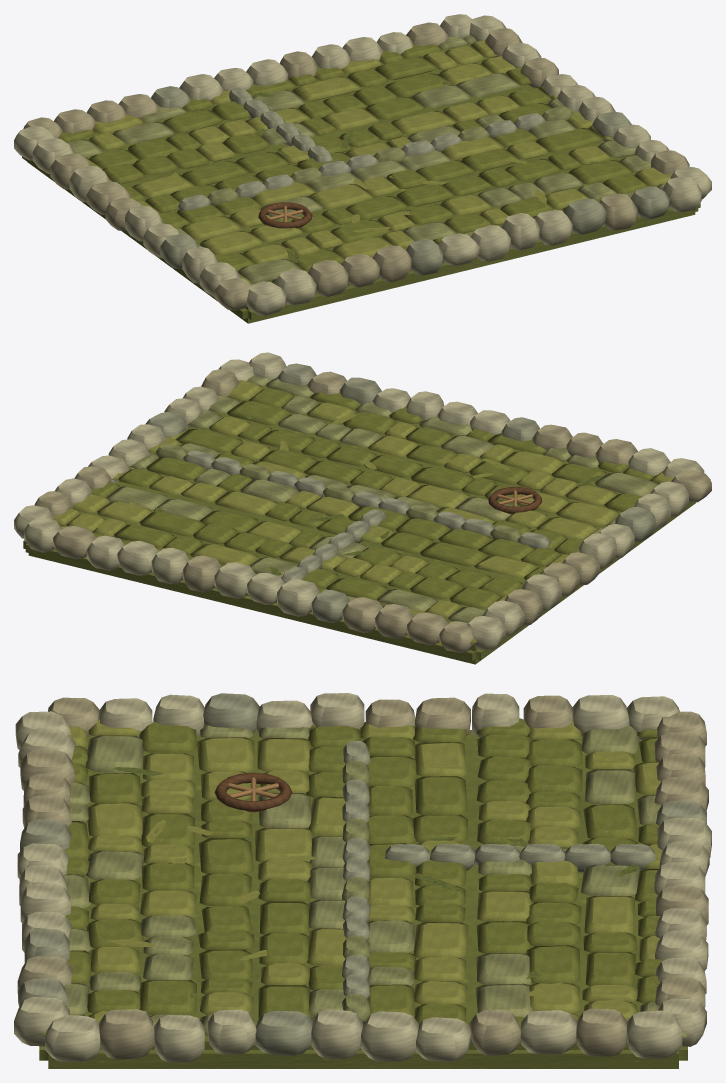
Rendered from dry-hem-guesthouse-roof.fbx.
The picture shows the model from 3 angles, top to bottom: view 1: azimuth 30°, elevation 25°; view 2: azimuth 150°, elevation 25°; view 3: azimuth 270°, elevation 25°; orthographic projection. The views are drawn at different scales.
Parts seen in each view (by area): view 1: dry-hem-guesthouse-roof__Geometry; view 2: dry-hem-guesthouse-roof__Geometry; view 3: dry-hem-guesthouse-roof__Geometry.
Part boxes in pixels (<box>): dry-hem-guesthouse-roof__Geometry: <box>14,14,711,323</box>; dry-hem-guesthouse-roof__Geometry: <box>14,352,711,664</box>; dry-hem-guesthouse-roof__Geometry: <box>14,693,711,1068</box>.
Size of the model in its own units: 7.51 by 0.5693 by 6.52.
